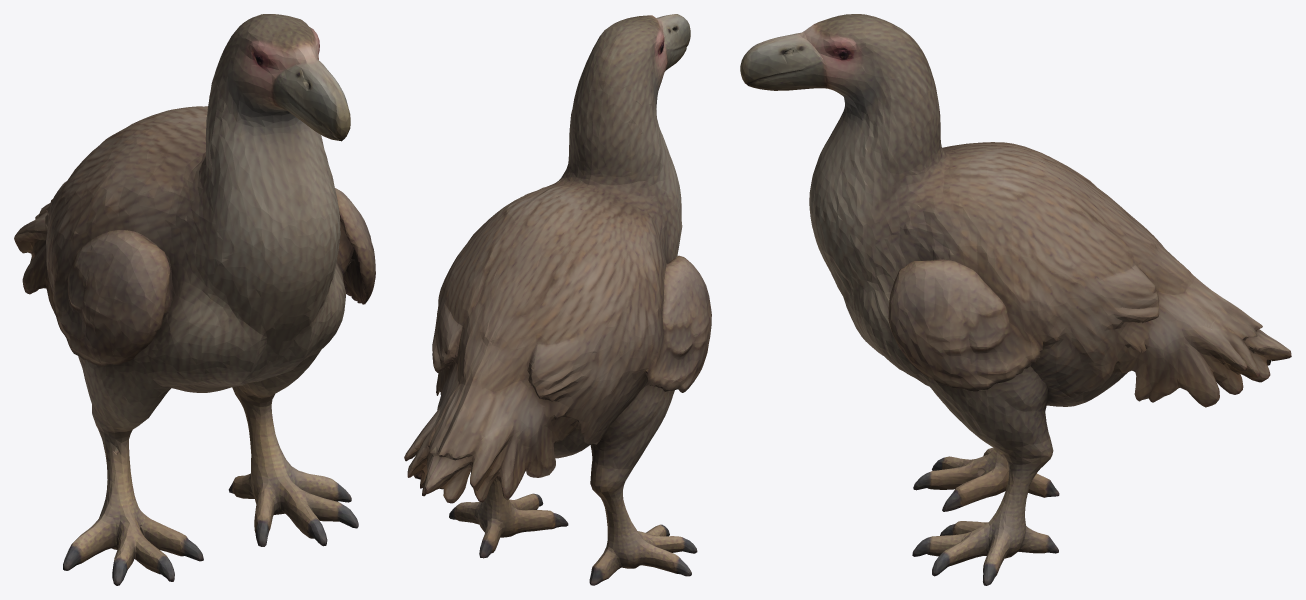
The picture shows the model from 3 angles, left to right: view 1: azimuth 30°, elevation 25°; view 2: azimuth 150°, elevation 25°; view 3: azimuth 270°, elevation 25°; orthographic projection. The views are drawn at different scales.
Visible parts, largest first — view 1: world; view 2: world; view 3: world.
Boxes of the visible parts, <box> form: world: <box>14,14,375,585</box>; world: <box>404,14,711,585</box>; world: <box>740,14,1291,585</box>.
Size of the model in its own units: 1.06 by 2 by 1.97.
1 material, 1 textured.
